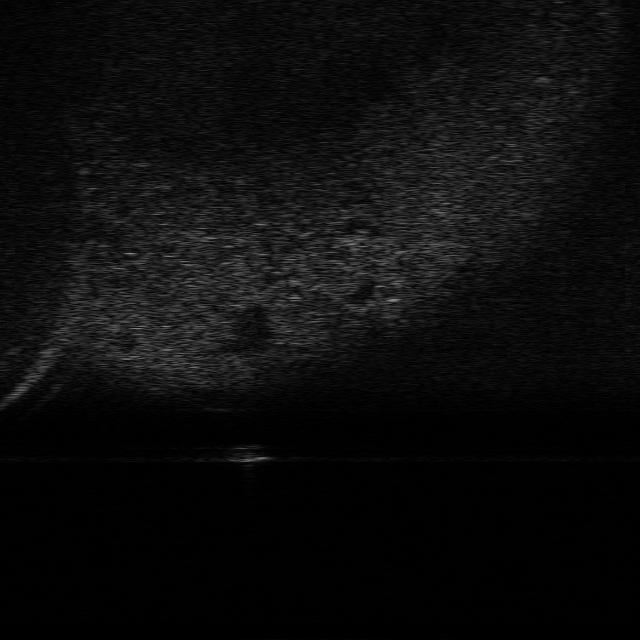cube: (228, 442, 278, 465)
